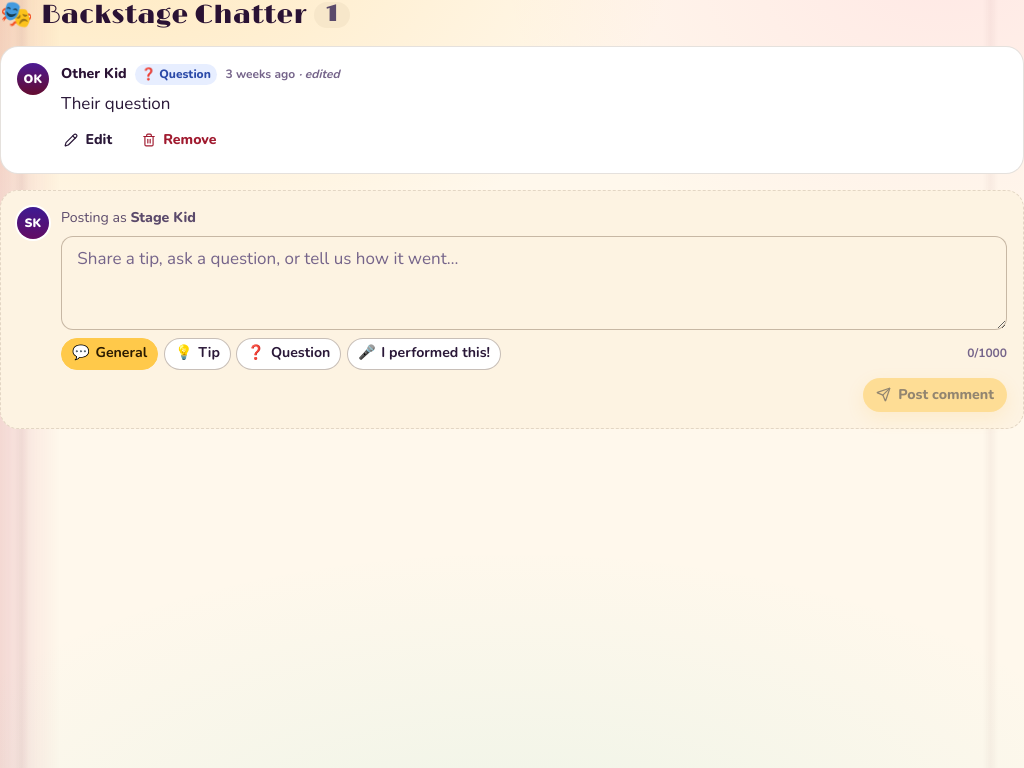
Test: CommentsSection › admins can remove anyone’s comment after confirming
Click the button with test id "comment-delete" at (179, 140), box [129, 123, 230, 157]
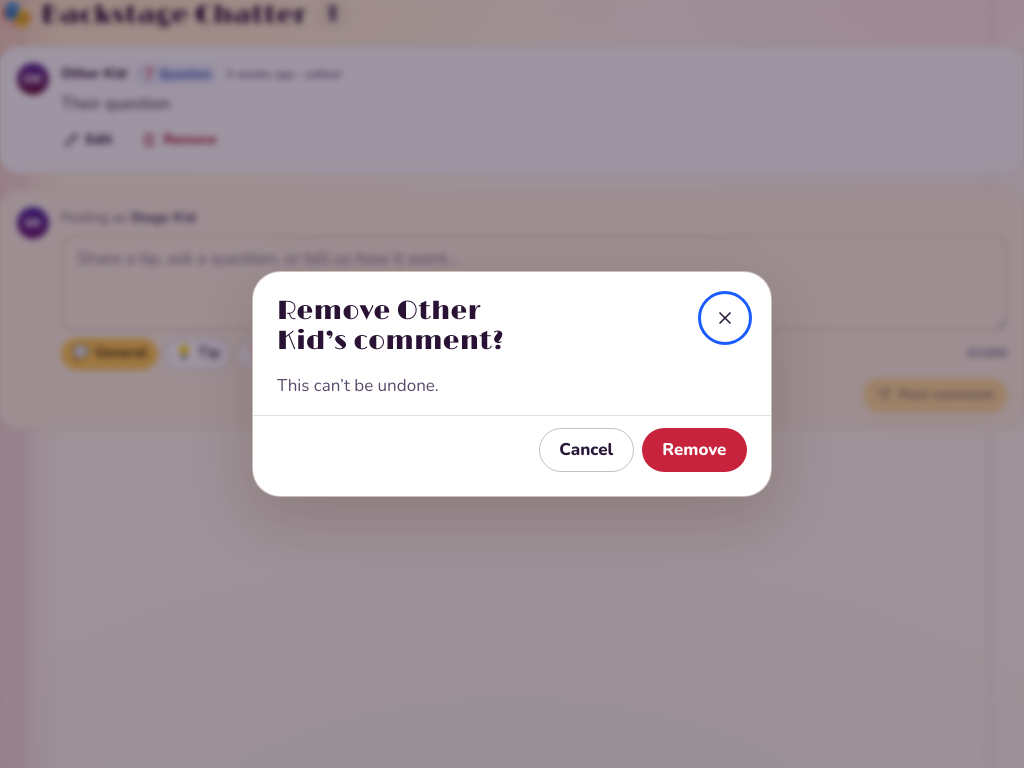
Click the button with test id "confirm-button" at (694, 450), box [642, 428, 747, 472]
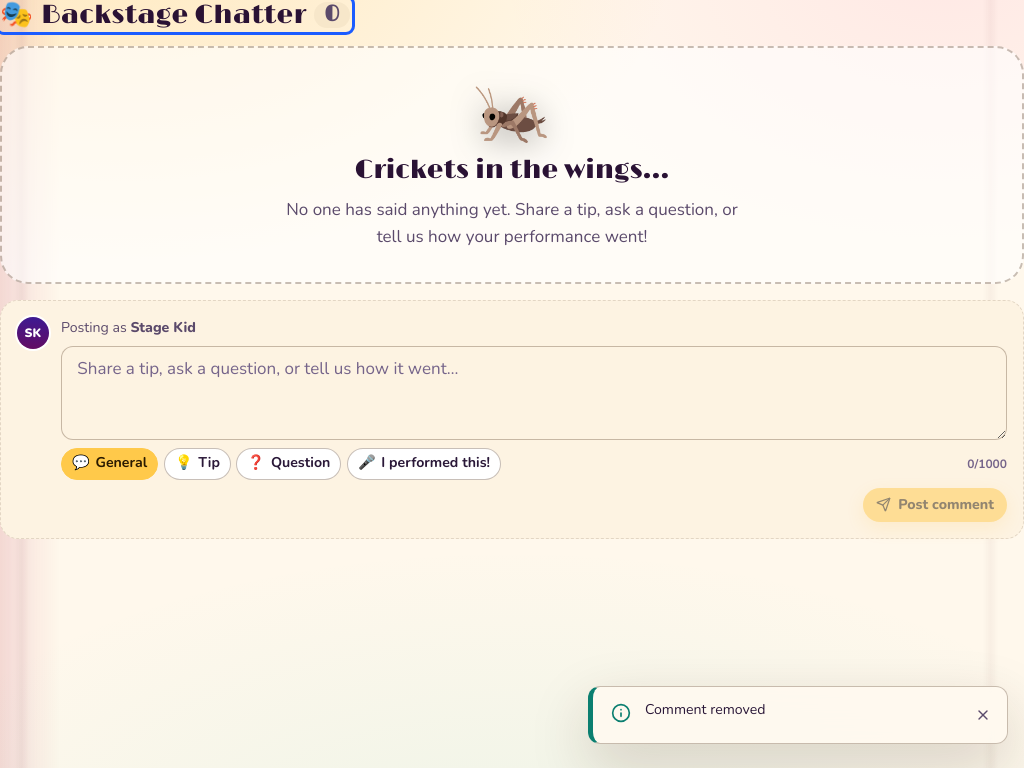
Check: no list items with test id "comment" are shown
